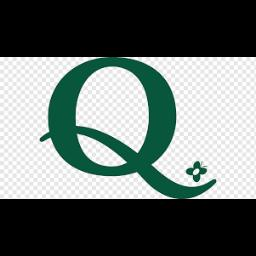q: (32, 57, 222, 199)
